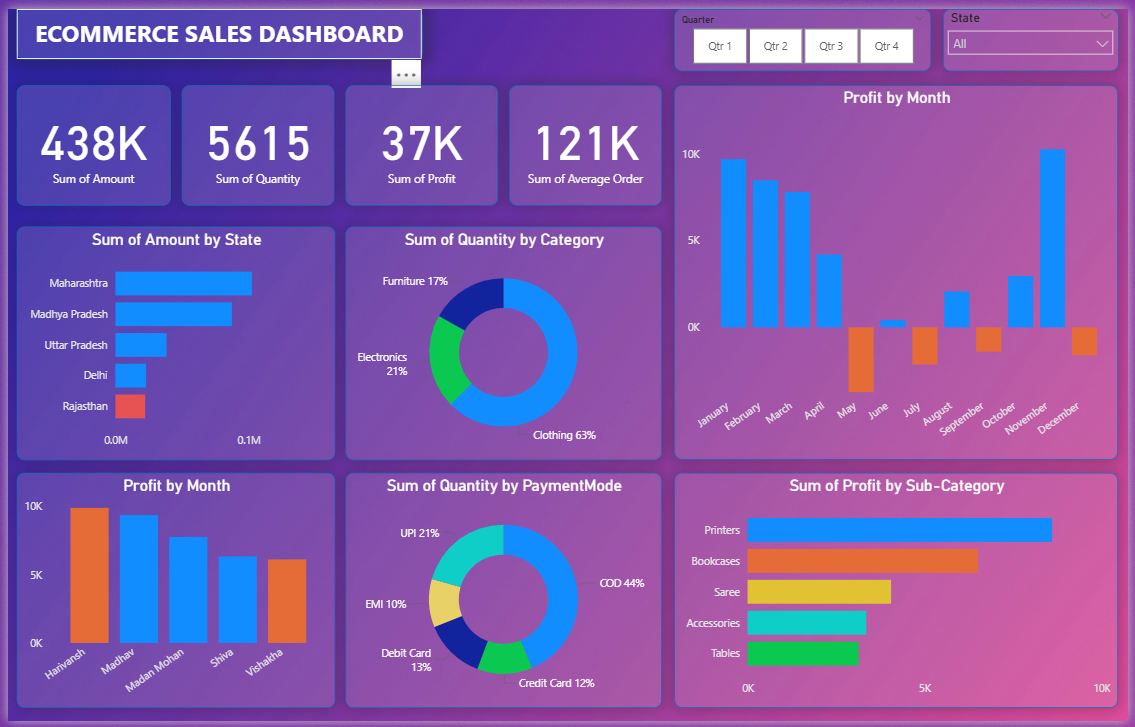

The dashboard page shown, as its layout file describes it:
{"tool":"powerbi","page":{"name":"Page 1","canvas":[1280,814],"ordinal":0},"visuals":[{"type":"textbox","box":[9.5,0,463.7,57.3],"z":0},{"type":"columnChart","title":"Profit by Month","fields":{"Category":["Orders.Order Date.Variation.Date Hierarchy.Month"],"Y":["Sum(Details.Profit)"]},"box":[761.1,87.3,507.4,428.3],"z":1000},{"type":"barChart","fields":{"Category":["Details.Sub-Category"],"Y":["Sum(Details.Profit)"]},"box":[761.1,530.6,507.4,268.7],"z":2000},{"type":"donutChart","fields":{"Y":["Sum(Details.Quantity)"],"Series":["Details.Category"]},"box":[386,248.2,361.4,267.3],"z":3000},{"type":"donutChart","fields":{"Y":["Sum(Details.Quantity)"],"Series":["Details.PaymentMode"]},"box":[386,530.6,361.4,268.7],"z":4000},{"type":"card","fields":{"Values":["Sum(Details.Amount)"]},"box":[9.5,87.3,175.9,137.8],"z":5000},{"type":"card","fields":{"Values":["Sum(Details.Quantity)"]},"box":[199.1,87.3,174.6,137.8],"z":6000},{"type":"card","fields":{"Values":["Sum(Details.Profit)"]},"box":[386,87.3,174.6,137.8],"z":7000},{"type":"card","fields":{"Values":["Sum(Details.Average Order)"]},"box":[572.9,87.3,174.6,137.8],"z":8000},{"type":"barChart","fields":{"Category":["Orders.State"],"Y":["Sum(Details.Amount)"]},"box":[9.5,248.2,364.2,267.3],"z":9000},{"type":"columnChart","title":"Profit by Month","fields":{"Category":["Orders.CustomerName"],"Y":["Sum(Details.Amount)"]},"box":[9.5,530.6,364.2,268.7],"z":10000},{"type":"slicer","fields":{"Values":["Orders.Order Date.Variation.Date Hierarchy.Quarter"]},"box":[761.1,0,293.2,70.9],"z":11000},{"type":"slicer","fields":{"Values":["Orders.State"]},"box":[1068,0,200.5,70.9],"z":12000}]}

Visuals, with their boxes in screenshot pixels (x1, y1, x2, y2), scaled from the page's 1280x814 canvas onto the 1135x727 screenshot:
textbox: {"x1": 8, "y1": 0, "x2": 420, "y2": 51}
"Profit by Month" columnChart: {"x1": 675, "y1": 78, "x2": 1125, "y2": 460}
barChart - Details.Sub-Category x Sum(Details.Profit): {"x1": 675, "y1": 474, "x2": 1125, "y2": 714}
donutChart - Sum(Details.Quantity) x Details.Category: {"x1": 342, "y1": 222, "x2": 663, "y2": 460}
donutChart - Sum(Details.Quantity) x Details.PaymentMode: {"x1": 342, "y1": 474, "x2": 663, "y2": 714}
card - Sum(Details.Amount): {"x1": 8, "y1": 78, "x2": 164, "y2": 201}
card - Sum(Details.Quantity): {"x1": 177, "y1": 78, "x2": 331, "y2": 201}
card - Sum(Details.Profit): {"x1": 342, "y1": 78, "x2": 497, "y2": 201}
card - Sum(Details.Average Order): {"x1": 508, "y1": 78, "x2": 663, "y2": 201}
barChart - Orders.State x Sum(Details.Amount): {"x1": 8, "y1": 222, "x2": 331, "y2": 460}
"Profit by Month" columnChart: {"x1": 8, "y1": 474, "x2": 331, "y2": 714}
slicer - Orders.Order Date.Variation.Date Hierarchy.Quarter: {"x1": 675, "y1": 0, "x2": 935, "y2": 63}
slicer - Orders.State: {"x1": 947, "y1": 0, "x2": 1125, "y2": 63}
